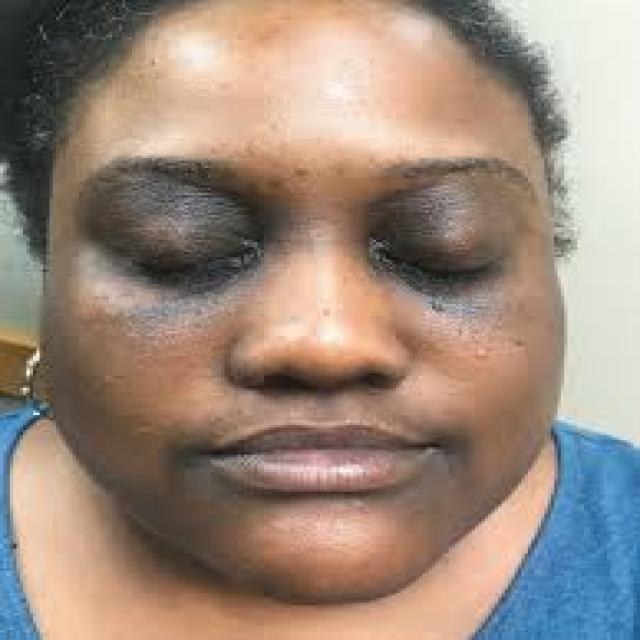pigmentation: (370, 192, 467, 306), (108, 180, 239, 256)
